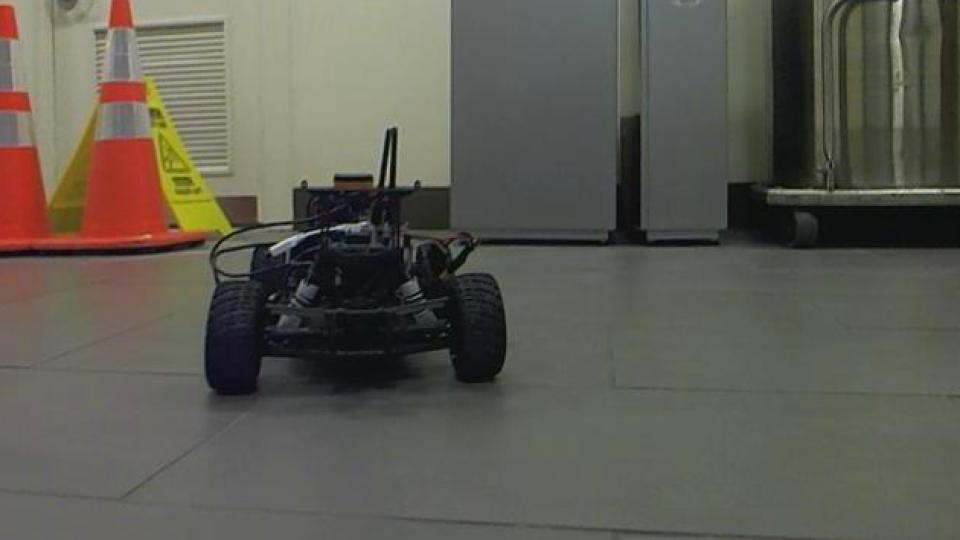car: (200, 124, 510, 398)
